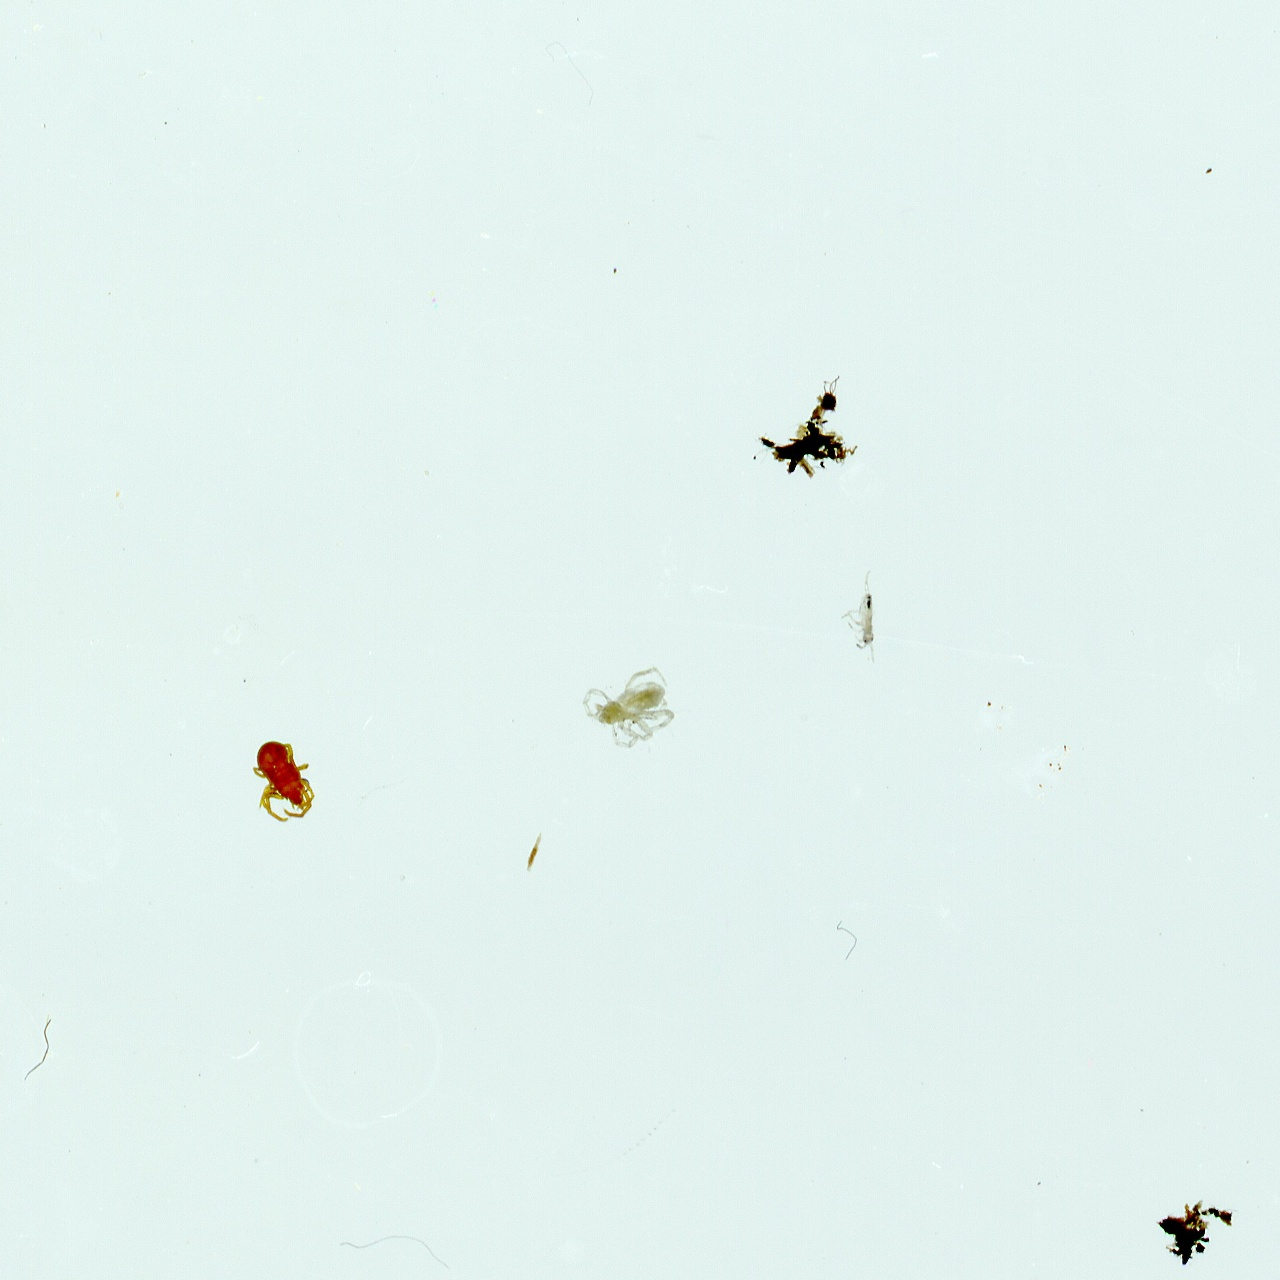arthropod: (580, 661, 681, 753), (247, 737, 319, 824), (837, 565, 879, 667)
